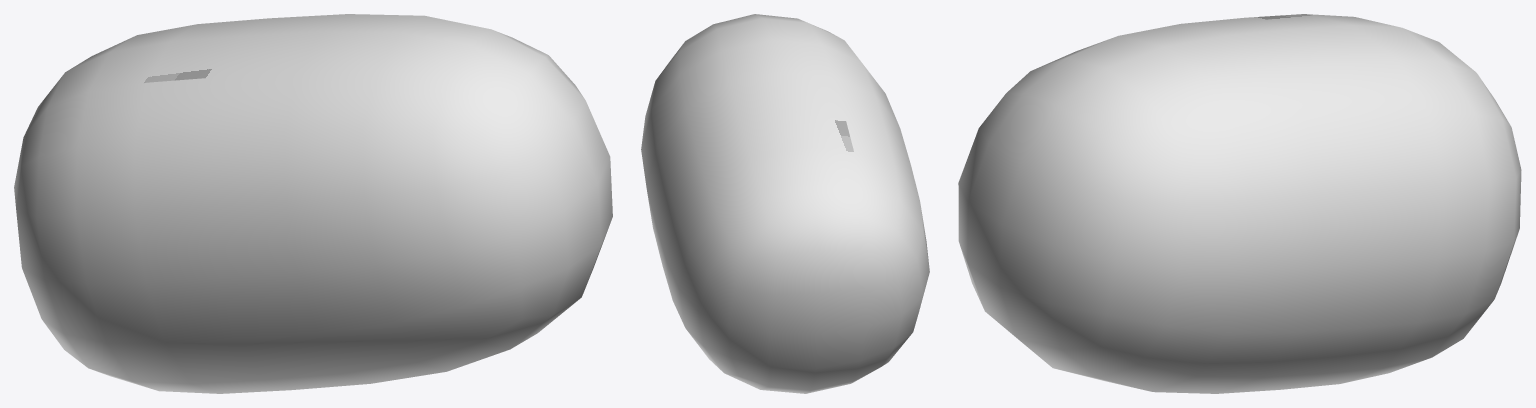
3 views of the same model, side by side, from view 1: azimuth 30°, elevation 25°; view 2: azimuth 150°, elevation 25°; view 3: azimuth 270°, elevation 25° (orthographic). The views are drawn at different scales.
Visible parts, largest first — view 1: Cube.1404; view 2: Cube.1404; view 3: Cube.1404.
Part boxes in pixels (bbox=[...]): Cube.1404: bbox=[14, 14, 612, 393]; Cube.1404: bbox=[641, 14, 929, 393]; Cube.1404: bbox=[958, 14, 1521, 393].
Bounding box in the file's own units: 0.1767 × 0.1391 × 0.1883.
1 material, 1 textured.
